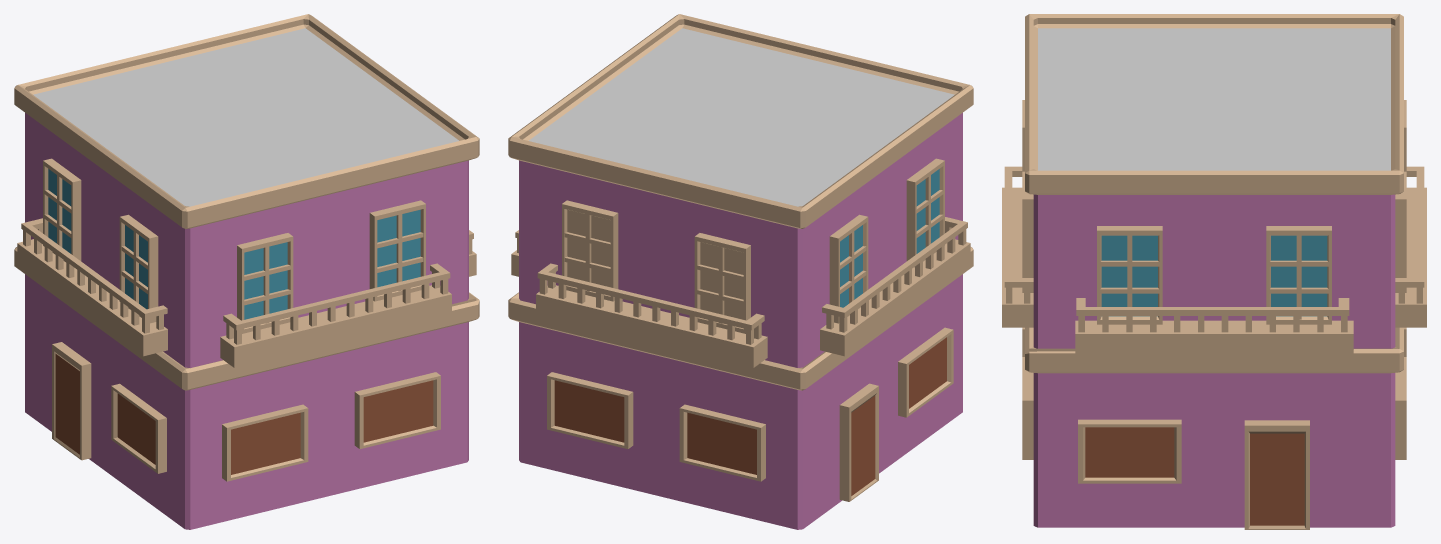
The model's file is casita4_uvs.fbx.
The picture shows the model from 3 angles, left to right: view 1: azimuth 30°, elevation 25°; view 2: azimuth 150°, elevation 25°; view 3: azimuth 270°, elevation 25°; orthographic projection. The views are drawn at different scales.
Visible parts, largest first — view 1: casa.005; view 2: casa.005; view 3: casa.005.
Boxes of the visible parts, box(x1,y1,x2,y2) form: casa.005: box(14, 14, 479, 529); casa.005: box(508, 14, 973, 529); casa.005: box(1002, 14, 1426, 529).
Size of the model in its own units: 835 by 778 by 835.
